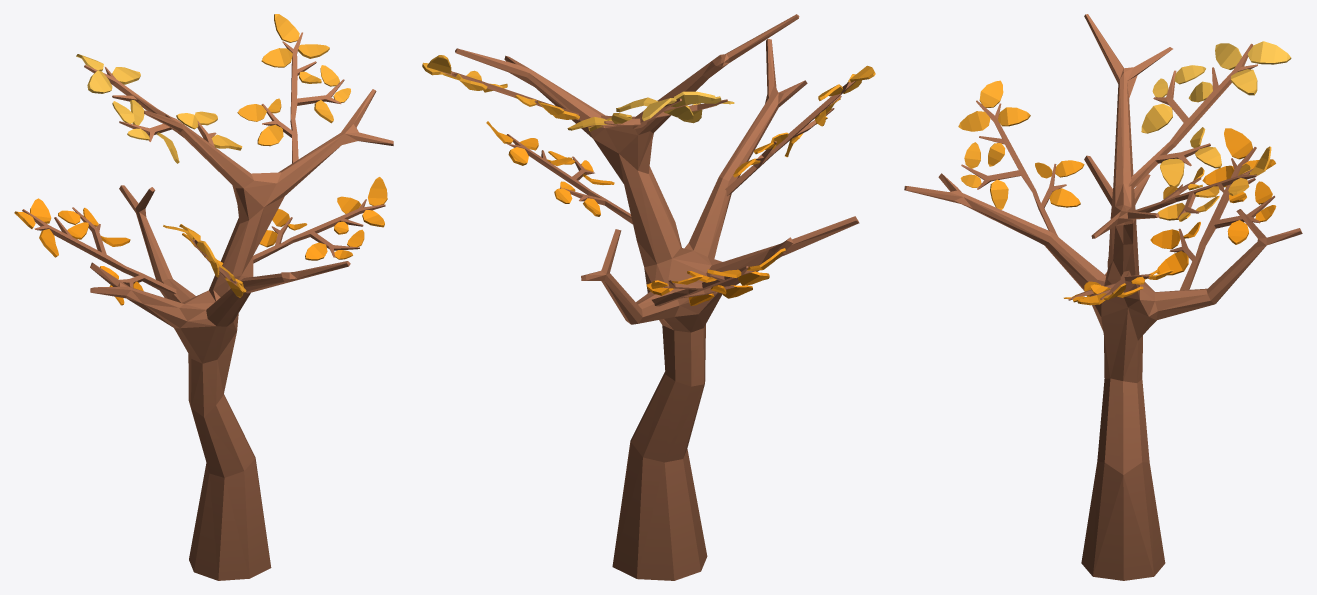
The model's file is tree 2.fbx.
3 views of the same model, side by side, from view 1: azimuth 30°, elevation 25°; view 2: azimuth 150°, elevation 25°; view 3: azimuth 270°, elevation 25° (orthographic). The views are drawn at different scales.
Parts seen in each view (by area): view 1: tree 2; view 2: tree 2; view 3: tree 2.
Boxes of the visible parts, bbox=[...] form: tree 2: bbox=[14, 14, 393, 580]; tree 2: bbox=[422, 14, 875, 580]; tree 2: bbox=[904, 14, 1302, 580].
Bounding box in the file's own units: 459 × 665 × 481.
